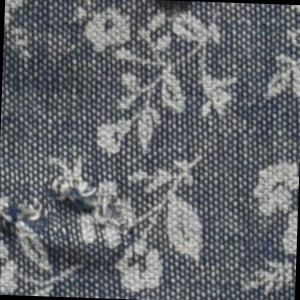Damage: (1, 149, 151, 265)
Stain: (148, 1, 197, 23)
